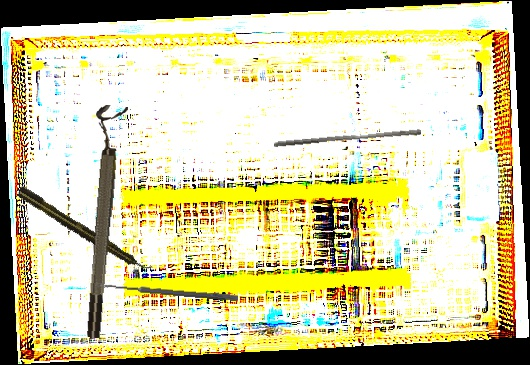Fixation Ring: (72, 104, 129, 339)
Handpiece: (14, 184, 154, 278)
Pusher: (273, 124, 422, 153)
Surgical Spoon: (95, 281, 239, 302)
